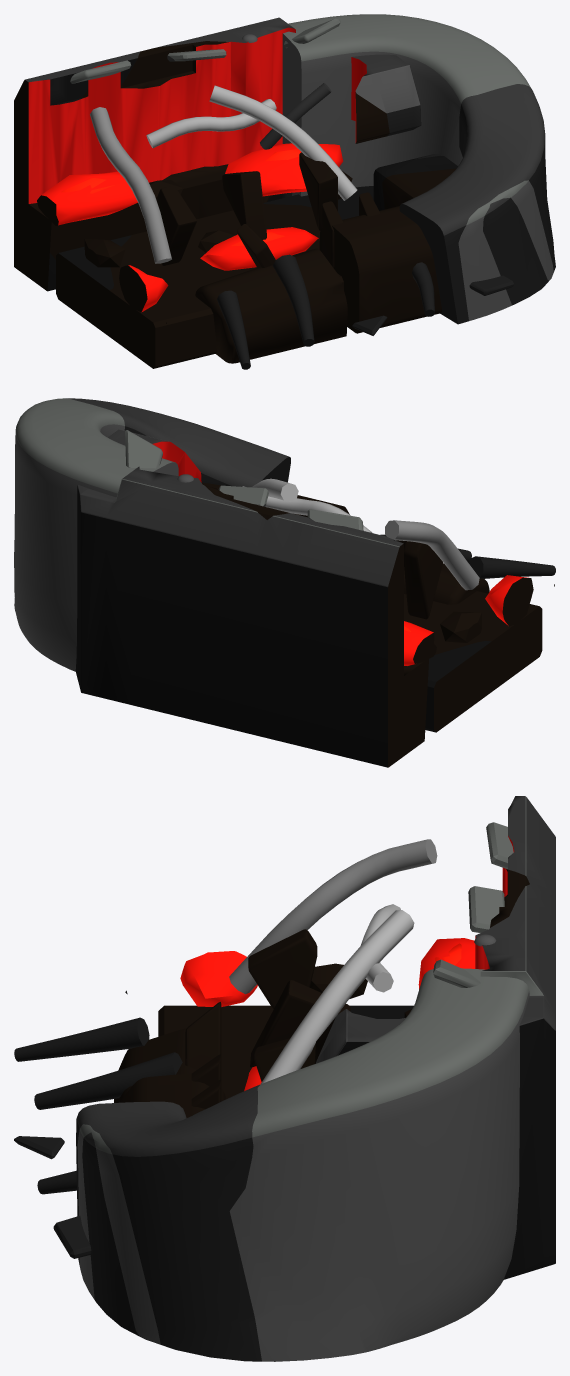
File: jaw_gun_b_right_wreck.glb
The picture shows the model from 3 angles, top to bottom: view 1: azimuth 30°, elevation 25°; view 2: azimuth 150°, elevation 25°; view 3: azimuth 270°, elevation 25°; orthographic projection. The views are drawn at different scales.
Parts seen in each view (by area): view 1: hinge.001, upper_jaw.001, mouth_floor.001, lower_jaw.001, lower_jaw_r.001, ember1.001, twisted2.001, cheek.001, twisted0.001, ember0.001, ember2.001, upper_tooth2.001 (+16 smaller); view 2: upper_jaw.001, hinge.001, mouth_floor.001, upper_tooth4.001, twisted2.001, ember3.001, charred_fang2.001, ember1.001, chunk3.001, lower_jaw_r.001, petal0.001, twisted1.001 (+3 smaller); view 3: hinge.001, upper_jaw.001, twisted2.001, twisted0.001, mouth_floor.001, upper_tooth4.001, charred_fang1.001, charred_fang2.001, ember3.001, upper_tooth2.001, lower_jaw.001, lower_tooth3.001 (+11 smaller).
Part boxes in pixels (bbox=[...]): hinge.001: bbox=[282, 14, 555, 324]; upper_jaw.001: bbox=[14, 17, 421, 291]; mouth_floor.001: bbox=[56, 186, 373, 368]; lower_jaw.001: bbox=[319, 206, 441, 333]; lower_jaw_r.001: bbox=[195, 248, 347, 363]; ember1.001: bbox=[37, 171, 137, 225]; twisted2.001: bbox=[90, 107, 171, 263]; cheek.001: bbox=[373, 154, 457, 210]; twisted0.001: bbox=[209, 85, 357, 200]; ember0.001: bbox=[225, 143, 343, 196]; ember2.001: bbox=[200, 227, 318, 270]; upper_tooth2.001: bbox=[222, 171, 266, 239]; upper_jaw.001: bbox=[75, 429, 428, 767]; hinge.001: bbox=[14, 398, 290, 671]; mouth_floor.001: bbox=[404, 591, 542, 732]; upper_tooth4.001: bbox=[404, 541, 442, 619]; twisted2.001: bbox=[385, 520, 479, 590]; ember3.001: bbox=[485, 575, 533, 625]; charred_fang2.001: bbox=[468, 556, 555, 578]; ember1.001: bbox=[404, 621, 436, 665]; chunk3.001: bbox=[440, 611, 481, 642]; lower_jaw_r.001: bbox=[404, 563, 489, 604]; petal0.001: bbox=[125, 430, 162, 468]; twisted1.001: bbox=[242, 486, 372, 532]; hinge.001: bbox=[76, 968, 529, 1361]; upper_jaw.001: bbox=[314, 796, 555, 1279]; twisted2.001: bbox=[229, 839, 437, 994]; twisted0.001: bbox=[261, 910, 414, 1083]; mouth_floor.001: bbox=[158, 1005, 413, 1099]; upper_tooth4.001: bbox=[248, 929, 317, 1009]; charred_fang1.001: bbox=[34, 1052, 182, 1109]; charred_fang2.001: bbox=[14, 1017, 149, 1061]; ember3.001: bbox=[180, 951, 257, 1006]; upper_tooth2.001: bbox=[250, 980, 350, 1067]; lower_jaw.001: bbox=[119, 1073, 225, 1117]; lower_tooth3.001: bbox=[185, 1002, 221, 1069].
Size of the model in its own units: 22.94 by 10.87 by 18.06.
